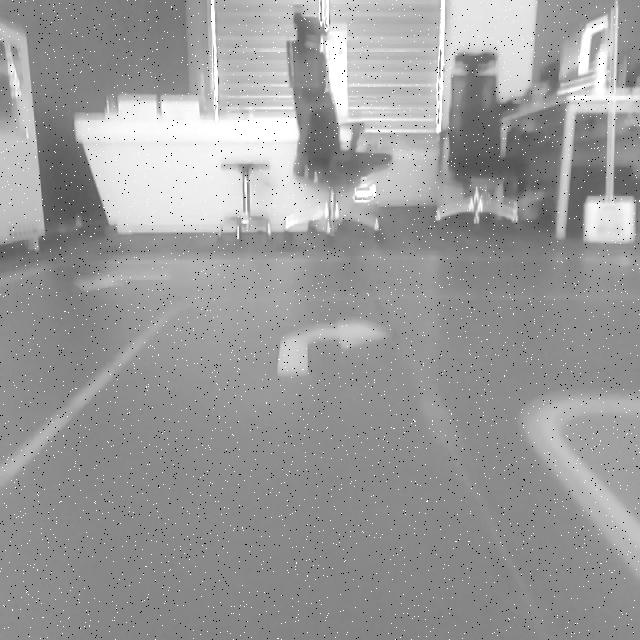left_lane: (0, 298, 188, 491)
right_lane: (518, 417, 640, 575)
